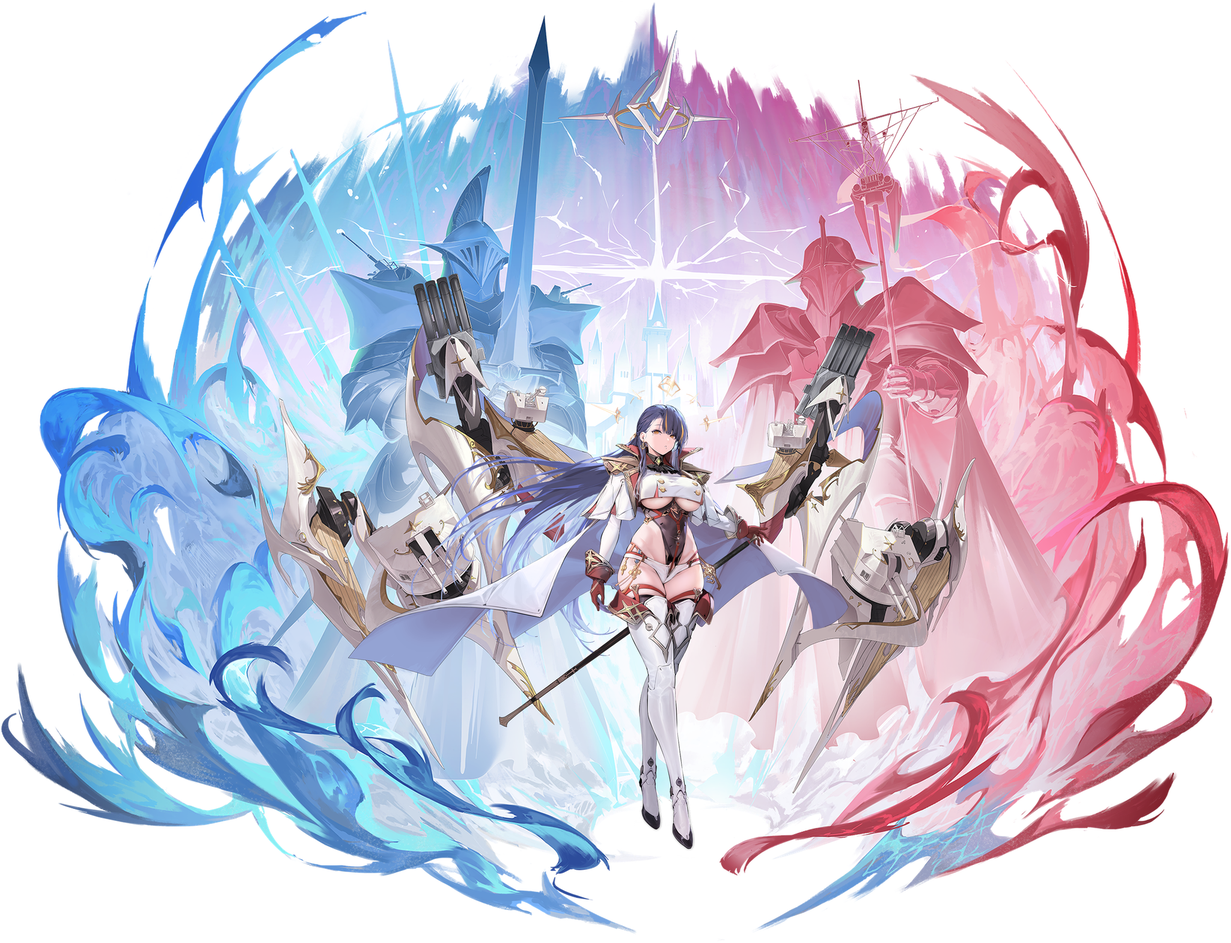person: (530, 368, 746, 870)
